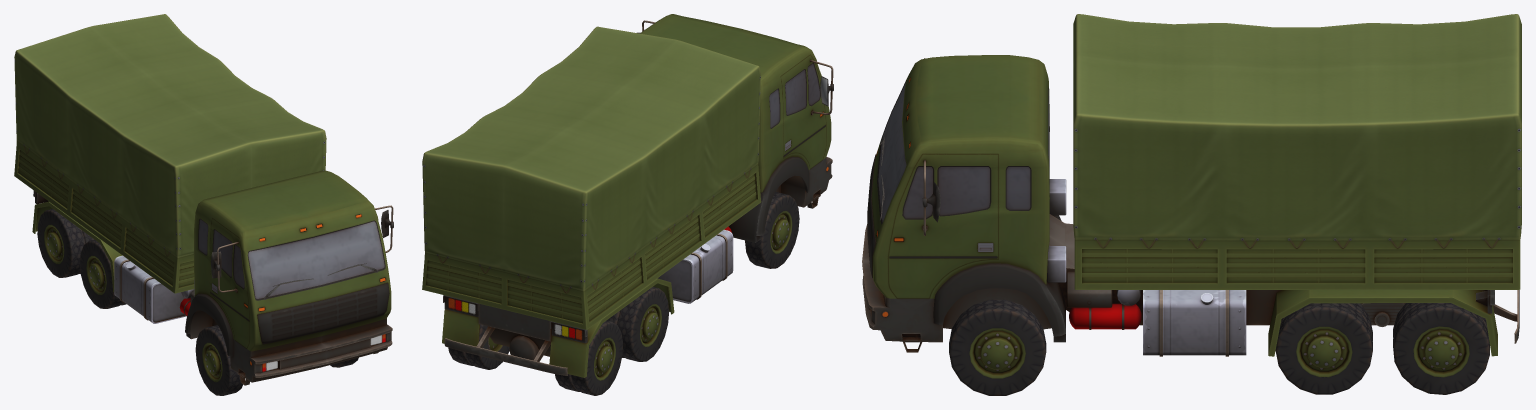
File: MilitaryTruck01_1Drv.FBX
The picture shows the model from 3 angles, left to right: view 1: azimuth 30°, elevation 25°; view 2: azimuth 150°, elevation 25°; view 3: azimuth 270°, elevation 25°; orthographic projection. The views are drawn at different scales.
Visible parts, largest first — view 1: MilitaryTruck01_1Body, WheelRearRight2, WheelFrontRight, WheelRearRight1; view 2: MilitaryTruck01_1Body, WheelRearRight1, WheelFrontRight, WheelRearRight2, WheelRearLeft2; view 3: MilitaryTruck01_1Body, WheelFrontLeft, WheelRearLeft2, WheelRearLeft1.
Part boxes in pixels (box(x1,y1,x2,y2)): MilitaryTruck01_1Body: box(14, 14, 393, 385); WheelRearRight2: box(37, 209, 94, 277); WheelFrontRight: box(195, 325, 242, 395); WheelRearRight1: box(79, 239, 126, 308); MilitaryTruck01_1Body: box(422, 14, 833, 377); WheelRearRight1: box(607, 287, 668, 361); WheelFrontRight: box(745, 192, 799, 268); WheelRearRight2: box(555, 320, 622, 395); WheelRearLeft2: box(448, 324, 509, 369); MilitaryTruck01_1Body: box(862, 14, 1521, 356); WheelFrontLeft: box(949, 299, 1046, 395); WheelRearLeft2: box(1393, 303, 1489, 394); WheelRearLeft1: box(1275, 303, 1372, 394).
Size of what is drawn, in the model's own units: 3.38 by 3.9 by 7.88.
